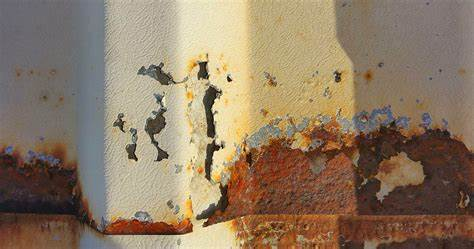rust: (242, 150, 472, 246), (1, 169, 77, 239), (106, 215, 194, 237)
